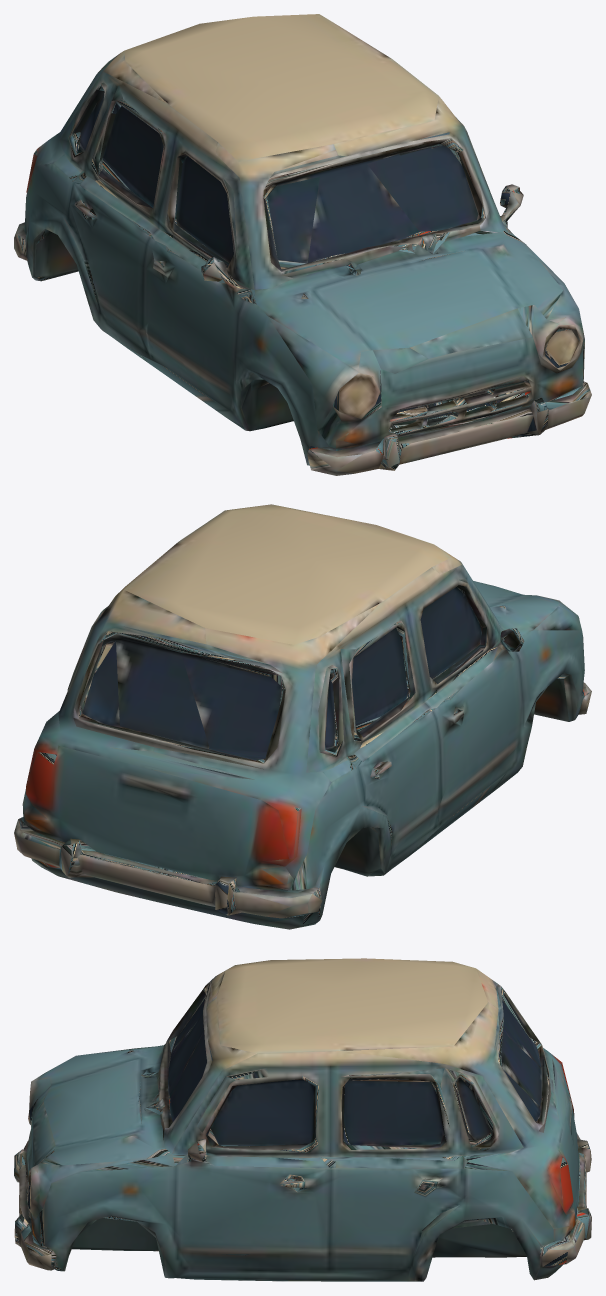
Rendered from car.glb.
The picture shows the model from 3 angles, top to bottom: view 1: azimuth 30°, elevation 25°; view 2: azimuth 150°, elevation 25°; view 3: azimuth 270°, elevation 25°; orthographic projection. The views are drawn at different scales.
Visible parts, largest first — view 1: tripo_node_58d98ccc; view 2: tripo_node_58d98ccc; view 3: tripo_node_58d98ccc.
Part boxes in pixels (left/top/right/bottom): tripo_node_58d98ccc: left=14, top=14, right=591, bottom=475; tripo_node_58d98ccc: left=14, top=504, right=591, bottom=929; tripo_node_58d98ccc: left=14, top=958, right=591, bottom=1281.
Size of the model in its own units: 55.52 by 42.33 by 97.76.
1 material, 1 textured.
